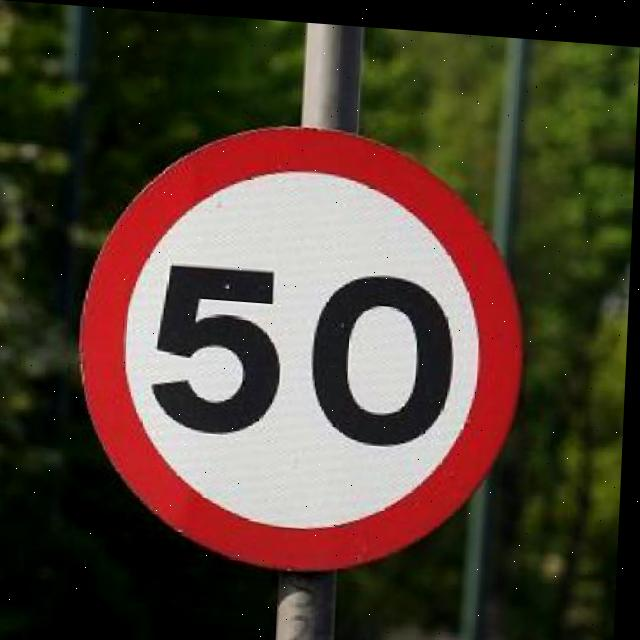Speed limit 50: (71, 104, 539, 583)
